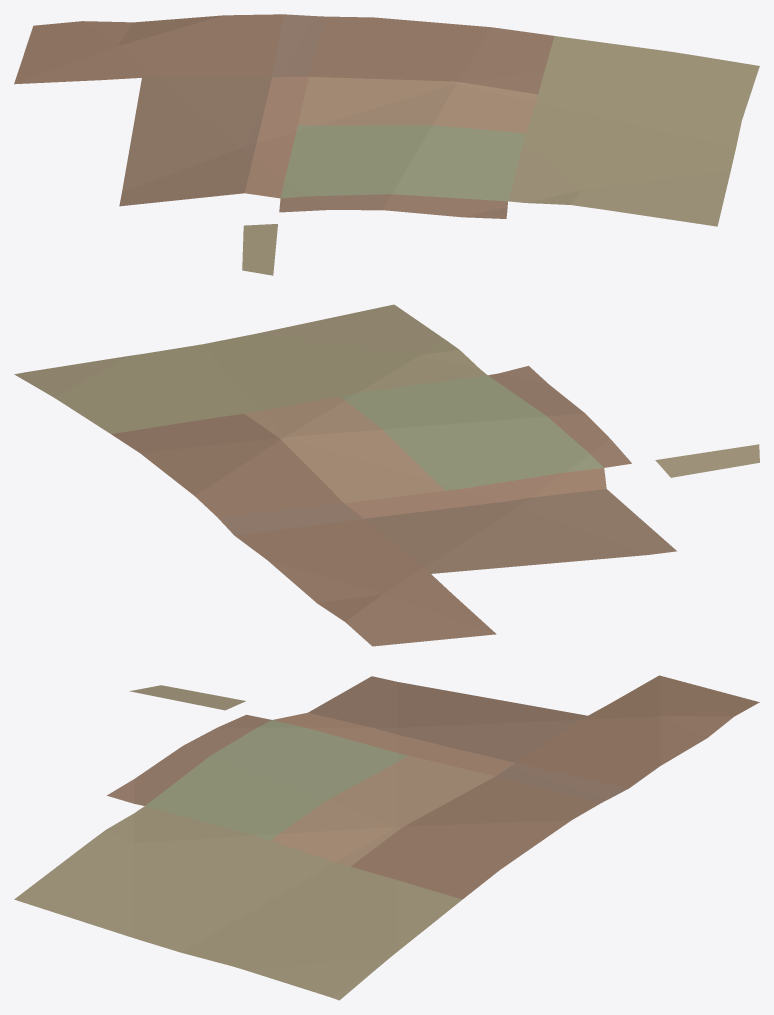
The model's file is farm_-38_-32_soil.glb.
3 renders of one model, top to bottom at view 1: azimuth 30°, elevation 25°; view 2: azimuth 150°, elevation 25°; view 3: azimuth 270°, elevation 25°, orthographic. The views are drawn at different scales.
Parts seen in each view (by area): view 1: geometry_0; view 2: geometry_0; view 3: geometry_0.
Part boxes in pixels (x1,y1,x2,y2): geometry_0: (14,14,759,275); geometry_0: (14,304,759,646); geometry_0: (14,675,759,1000).
Size of the model in its own units: 233 by 13.72 by 227.
